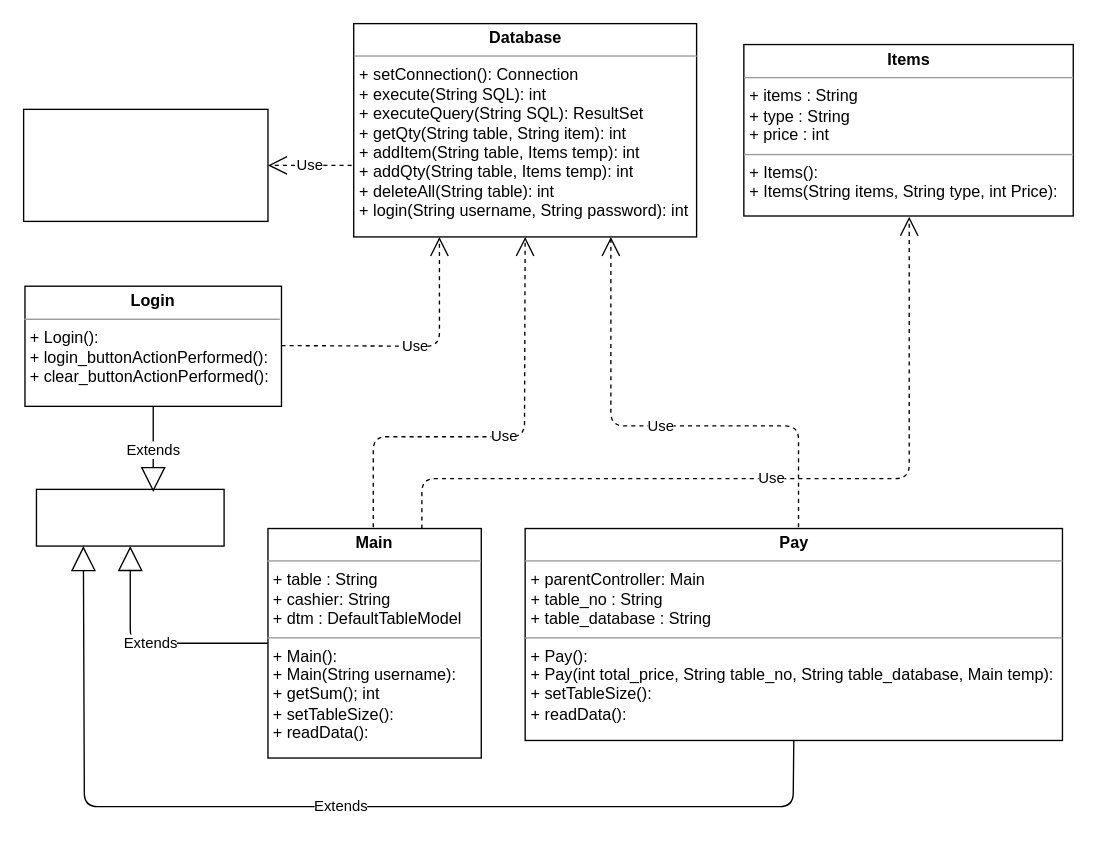
This 1098x855 diagram has some shape labels left out. Here are the shapes that lost their labels. From the top down, the box of each, then its label:
(22, 108, 268, 221): Connect + connect : Connection + getConnection() : Connection
(35, 488, 224, 546): javax.swing.JFrame
